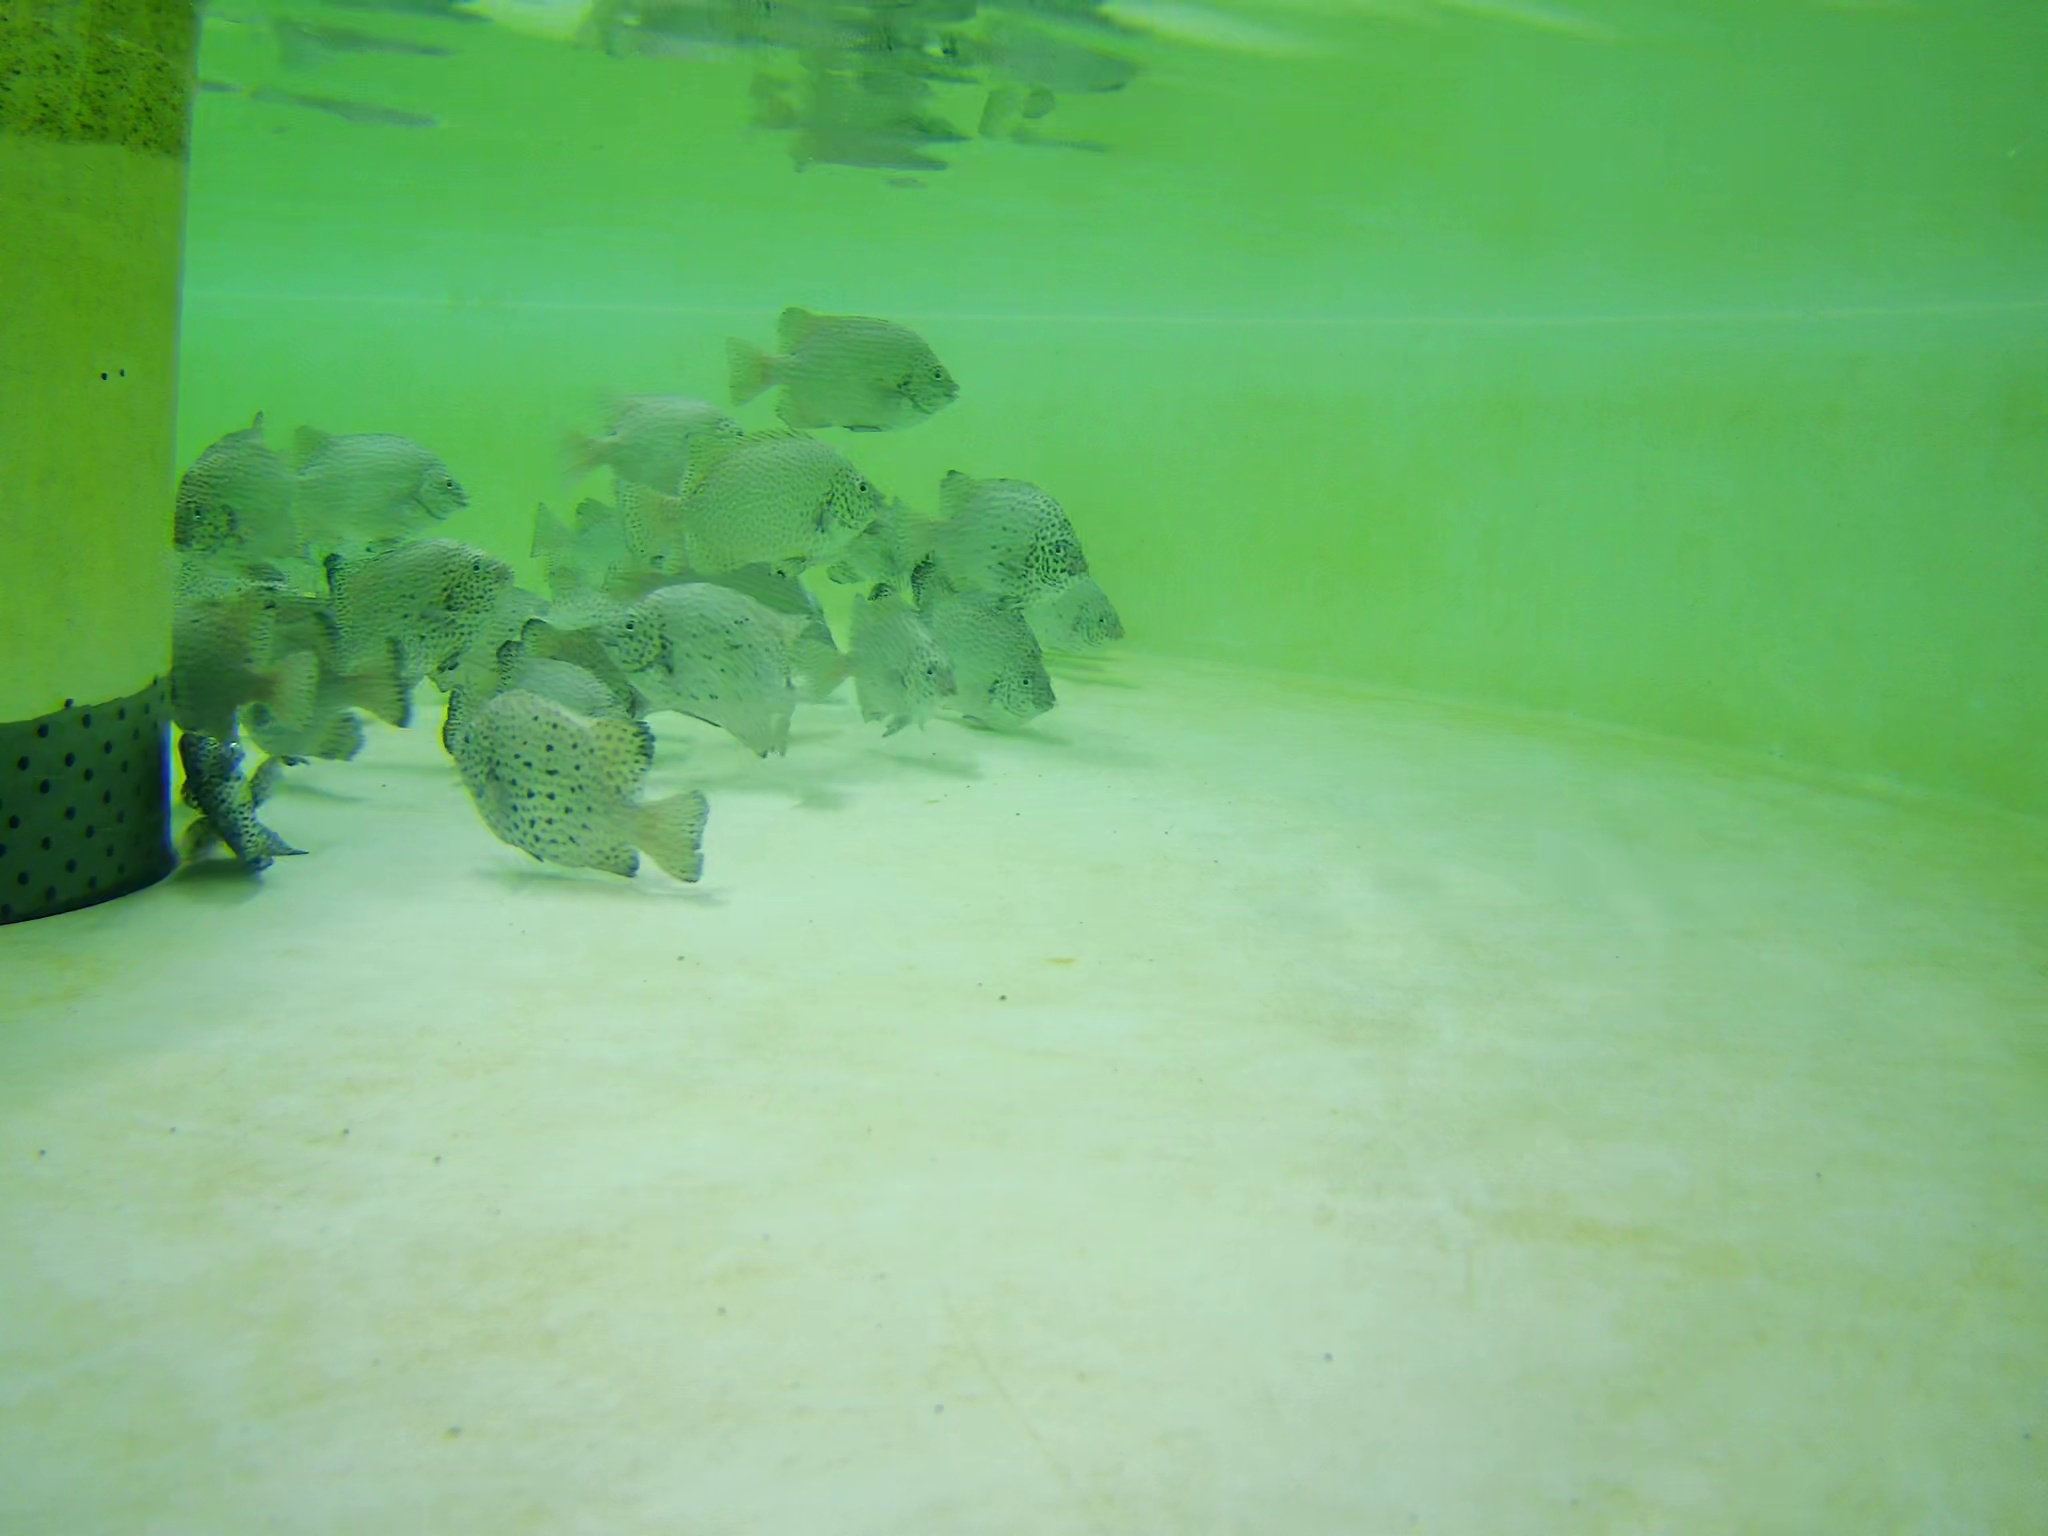fish: (452, 691, 713, 895), (600, 436, 890, 584), (706, 302, 964, 439), (611, 595, 814, 758), (293, 542, 516, 679), (276, 411, 472, 549), (231, 616, 413, 763), (800, 578, 959, 741), (911, 566, 1061, 729), (922, 463, 1090, 608), (173, 410, 313, 563), (556, 382, 755, 487), (174, 724, 308, 874), (531, 495, 685, 586), (1018, 568, 1127, 655)
